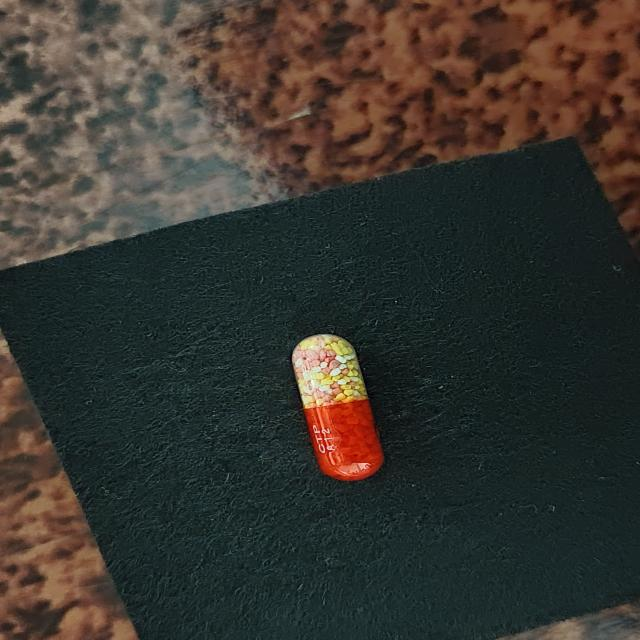Intact Capsule: (292, 334, 384, 481)
